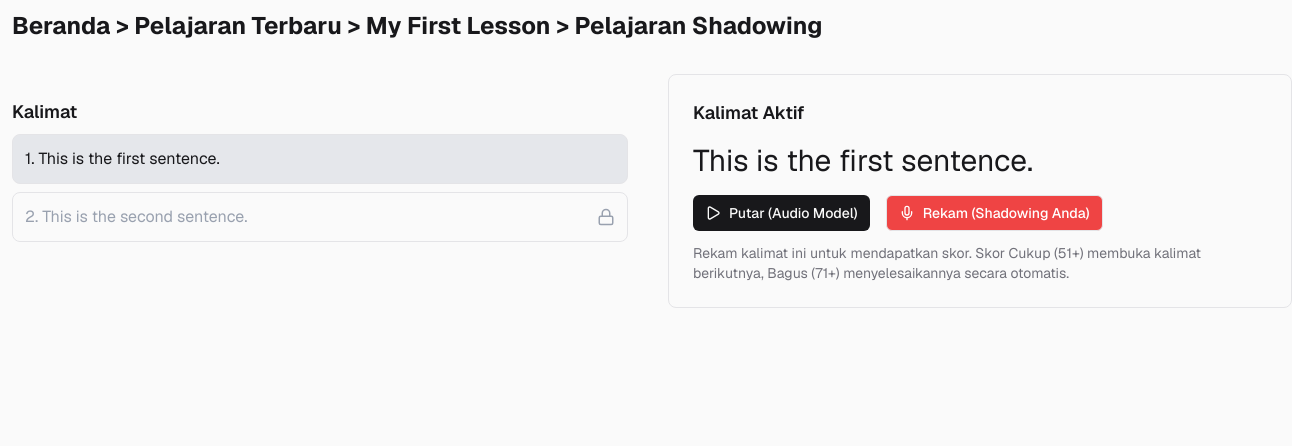
LessonPlayer › does not auto-complete when a fresh recording scores Kurang
Step 1. Click the button "Rekam (Shadowing Anda)" → (994, 213), box [886,195,1103,231]
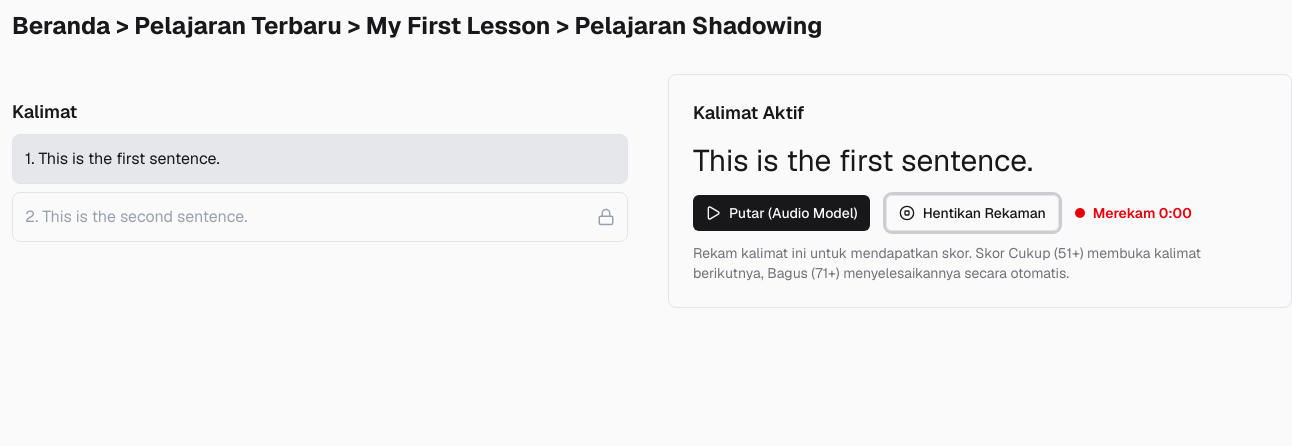
Step 2. Click the button "Hentikan Rekaman" → (972, 213), box [886,195,1059,231]
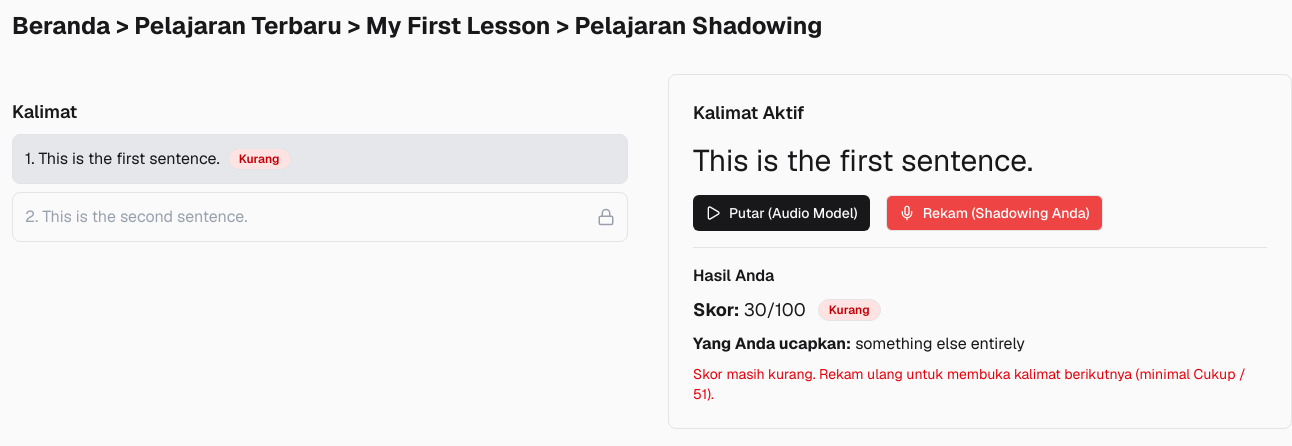
Expected: the picture named "Terkunci" is shown, [597,208,615,226]
Result: the text "30/100" is shown at [693,296,806,324]
